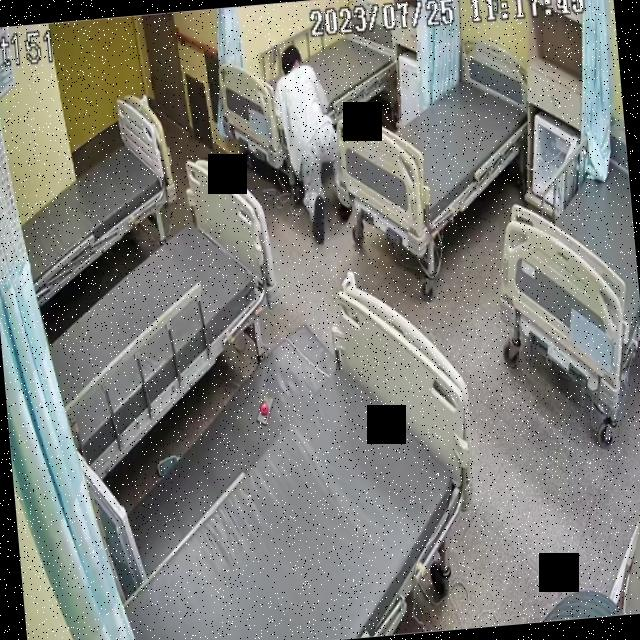bed: (97, 287, 480, 640), (29, 158, 287, 472), (488, 114, 640, 418), (326, 42, 537, 240), (8, 91, 184, 302), (218, 9, 403, 170)
danger: (270, 44, 347, 250)
patient: (265, 43, 349, 252)
